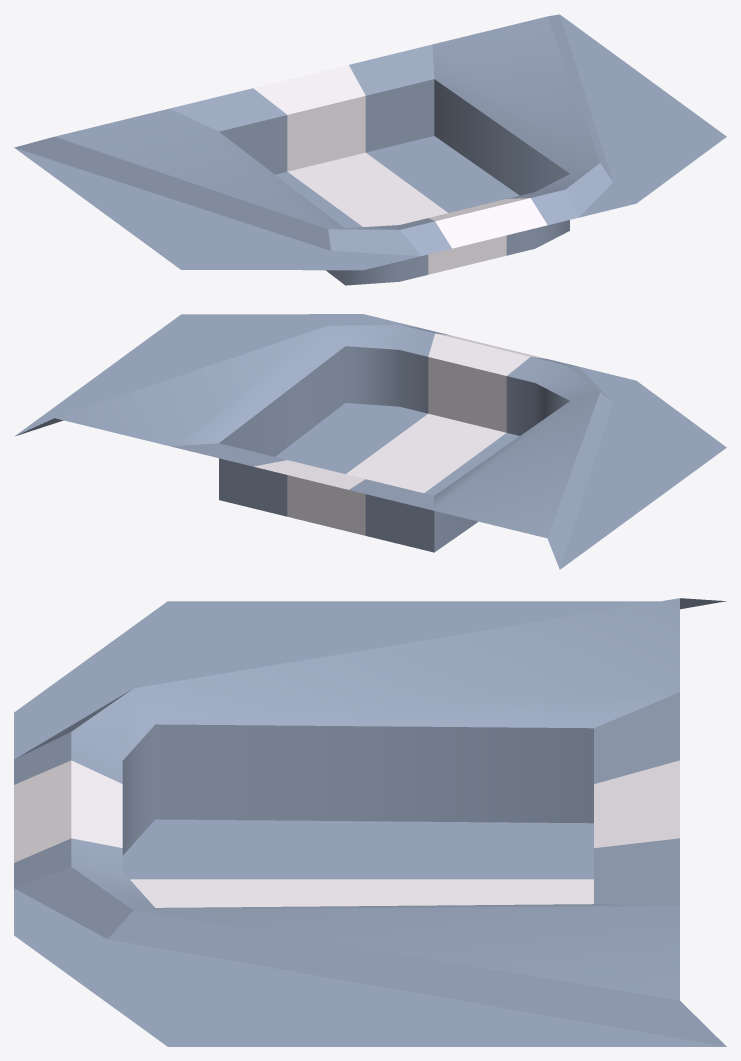
The model's file is car3Engine2.fbx.
3 views of the same model, one above another, from view 1: azimuth 30°, elevation 25°; view 2: azimuth 150°, elevation 25°; view 3: azimuth 270°, elevation 25° (orthographic). The views are drawn at different scales.
Visible parts, largest first — view 1: engine2.002; view 2: engine2.002; view 3: engine2.002.
Boxes of the visible parts, x1,y1,x2,y2 form: engine2.002: (14, 14, 726, 285); engine2.002: (14, 314, 726, 569); engine2.002: (14, 598, 726, 1046).
Bounding box in the file's own units: 2.2 × 0.2575 × 1.49.
